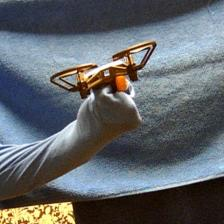drone: (50, 41, 158, 98)
